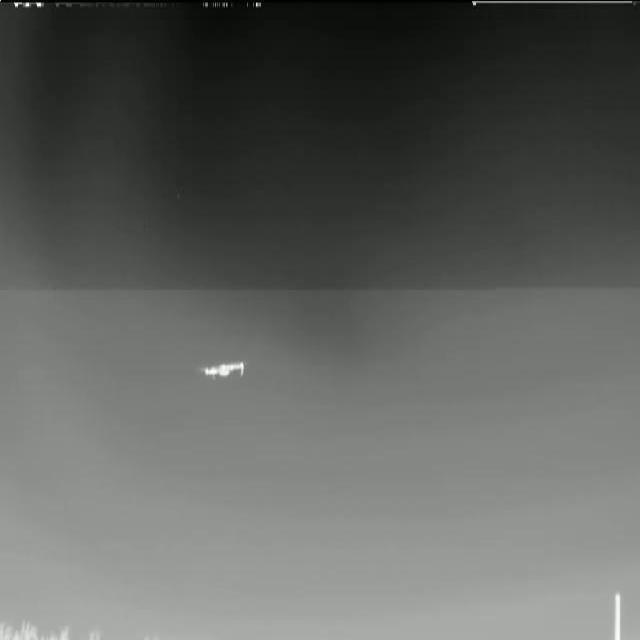DRONE: (189, 351, 254, 386)
